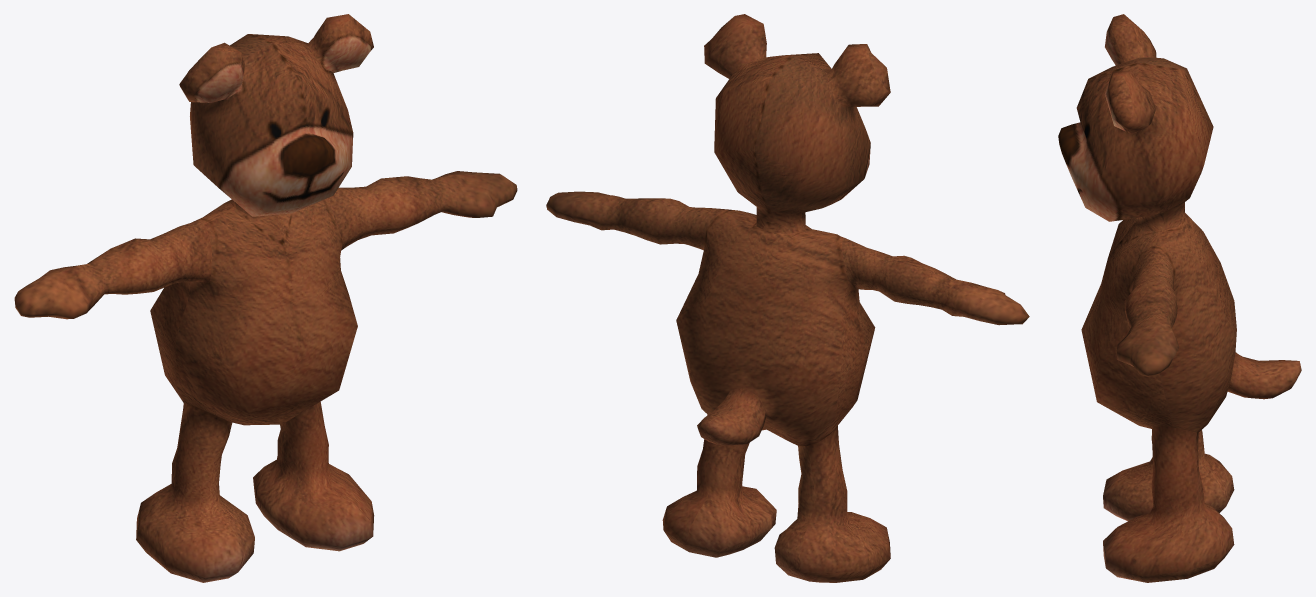
File: Cut Teddy.fbx
3 views of the same model, side by side, from view 1: azimuth 30°, elevation 25°; view 2: azimuth 150°, elevation 25°; view 3: azimuth 270°, elevation 25° (orthographic). The views are drawn at different scales.
Visible parts, largest first — view 1: Teddy Body, Teddy Head; view 2: Teddy Body, Teddy Head; view 3: Teddy Body, Teddy Head.
Boxes of the visible parts, x1=… form: Teddy Body: x1=14, y1=171, x2=517, y2=582; Teddy Head: x1=179, y1=14, x2=373, y2=218; Teddy Body: x1=546, y1=191, x2=1029, y2=582; Teddy Head: x1=704, y1=14, x2=890, y2=233; Teddy Body: x1=1081, y1=213, x2=1301, y2=582; Teddy Head: x1=1058, y1=14, x2=1213, y2=231.
Bounding box in the file's own units: 251 × 257 × 113.
2 materials, 2 textured.
